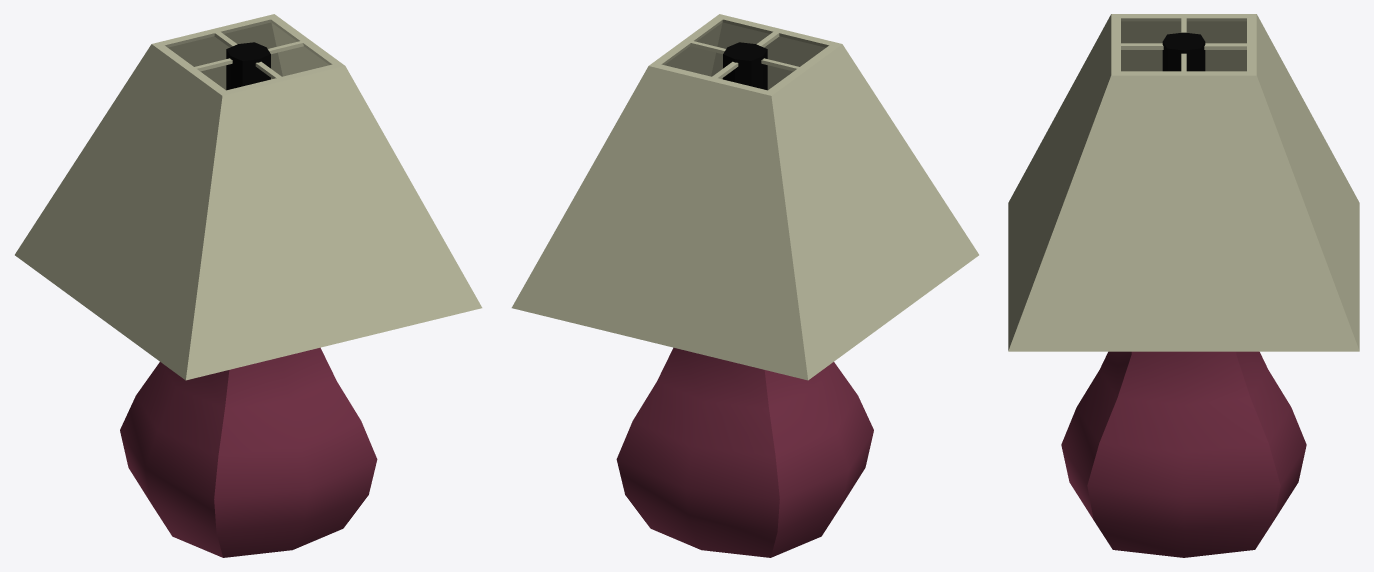
File: lamp.fbx
The picture shows the model from 3 angles, left to right: view 1: azimuth 30°, elevation 25°; view 2: azimuth 150°, elevation 25°; view 3: azimuth 270°, elevation 25°; orthographic projection. The views are drawn at different scales.
Parts seen in each view (by area): view 1: lampShade, lampBody; view 2: lampShade, lampBody; view 3: lampShade, lampBody.
Boxes of the visible parts, x1,y1,x2,y2 form: lampShade: (15,14,482,380); lampBody: (120,42,377,557); lampShade: (511,14,978,380); lampBody: (616,42,873,557); lampShade: (1008,14,1359,351); lampBody: (1061,32,1306,557).
Bounding box in the file's own units: 8.25 × 12.38 × 8.25.
